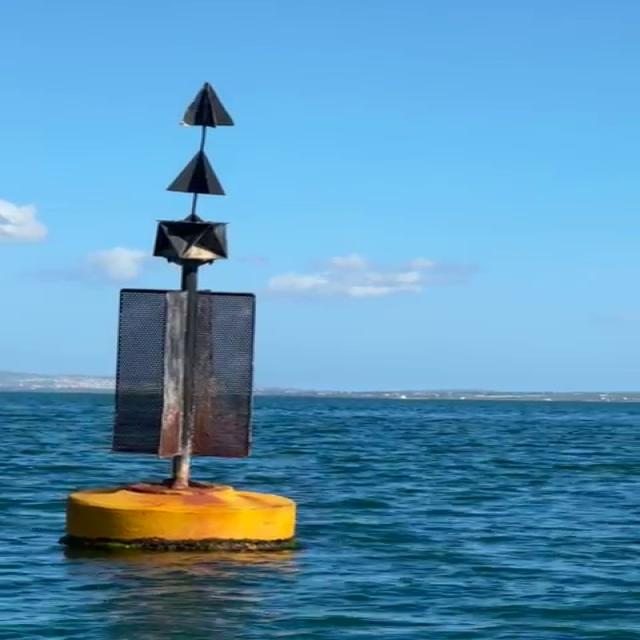marque: (57, 81, 302, 559)
